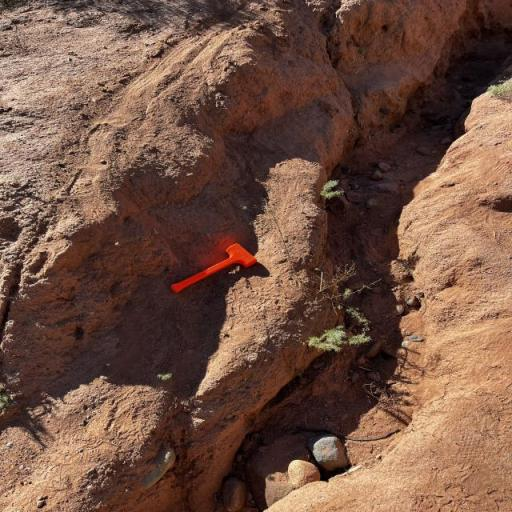mallet: (169, 242, 257, 292)
